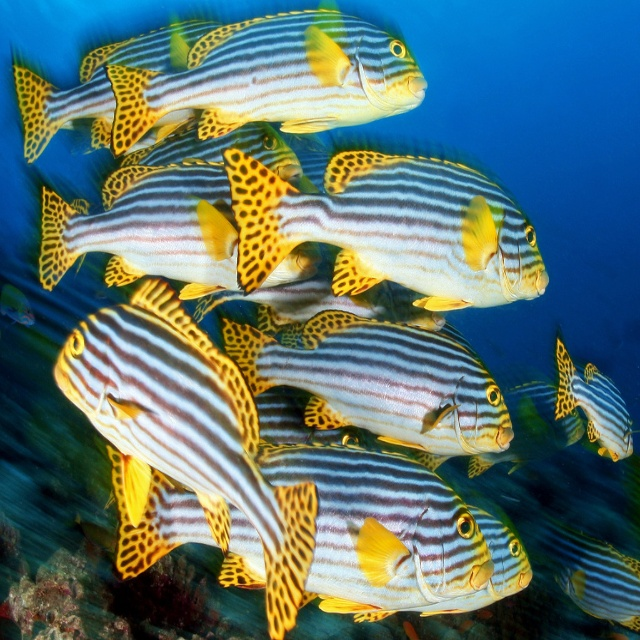Fish: (1, 0, 640, 639)
